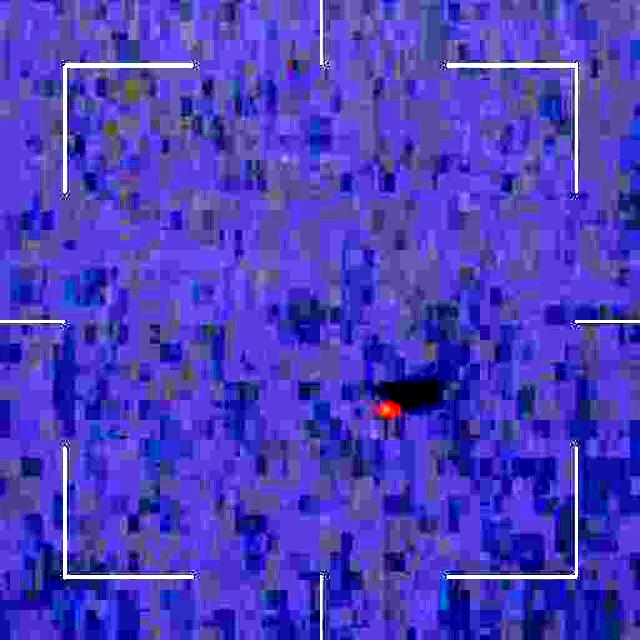bird: (372, 385, 406, 430)
